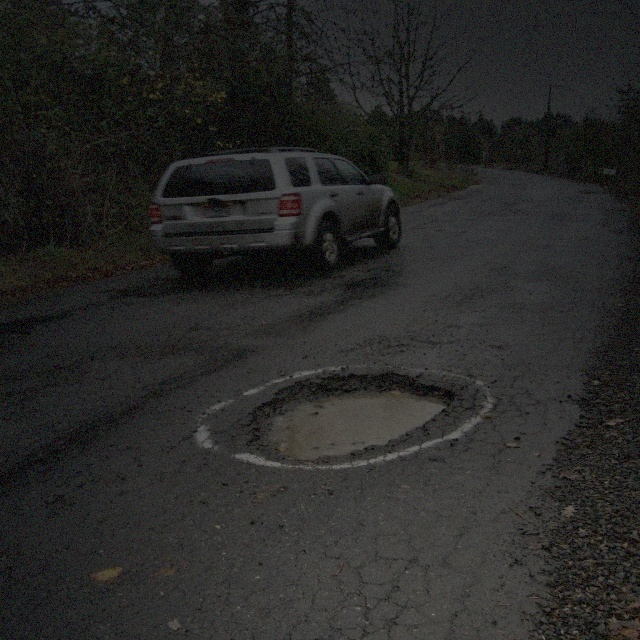pothole: (248, 366, 448, 473)
